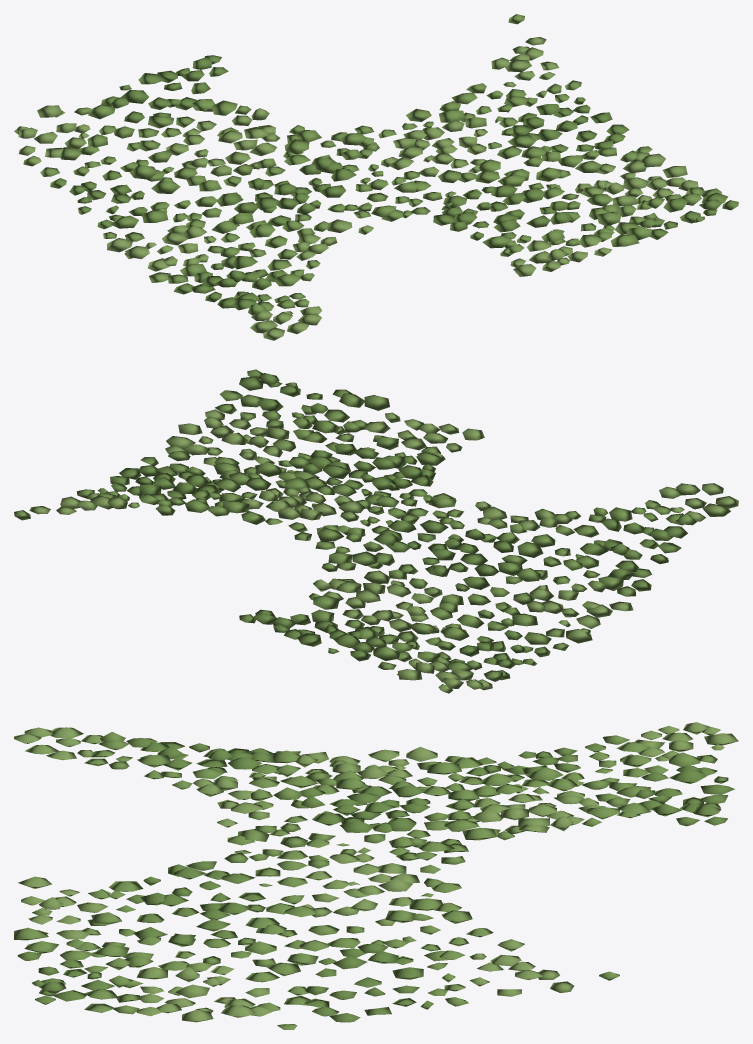
File: canopy-1-1--6.glb
3 views of the same model, one above another, from view 1: azimuth 30°, elevation 25°; view 2: azimuth 150°, elevation 25°; view 3: azimuth 270°, elevation 25° (orthographic). The views are drawn at different scales.
Size of the model in its own units: 520 by 67.5 by 518.
Materials: 1 (1 with a texture image).
